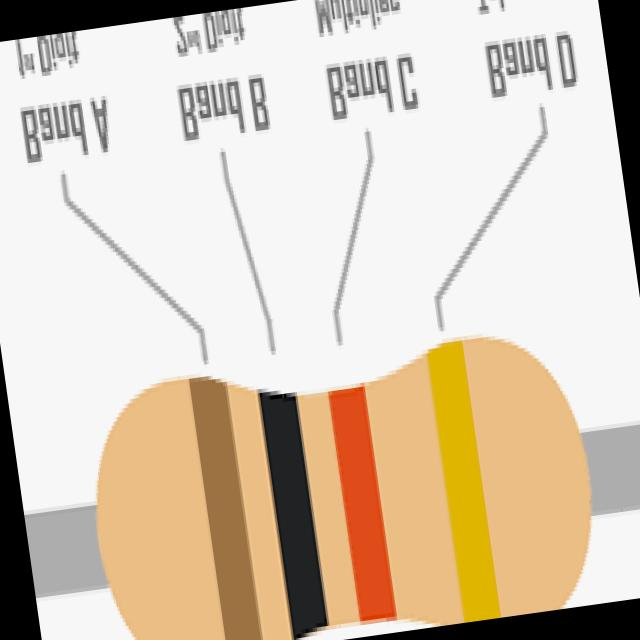Resistor: (96, 343, 588, 640)
black: (260, 392, 326, 638)
brown: (189, 377, 262, 640)
gold: (427, 340, 501, 622)
red: (329, 387, 397, 620)
